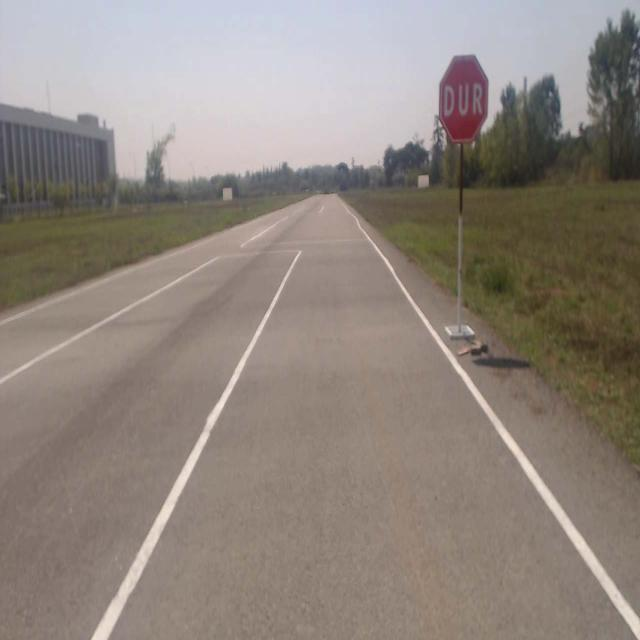dur: (440, 56, 488, 140)
